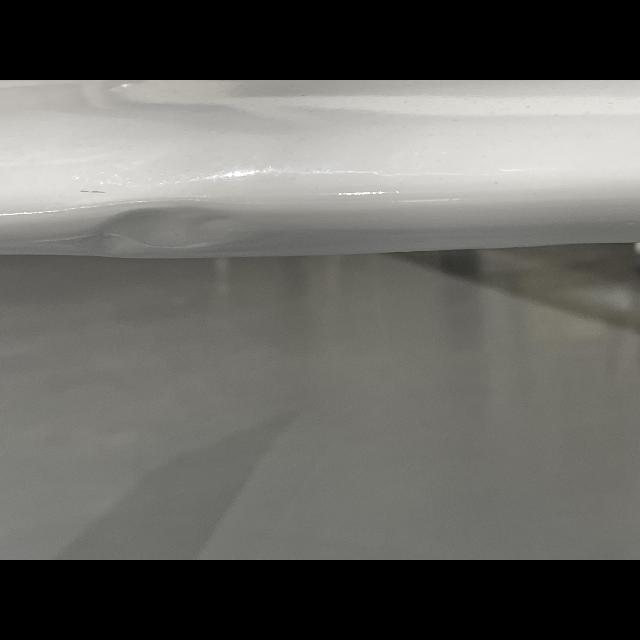dent: (92, 204, 252, 254)
